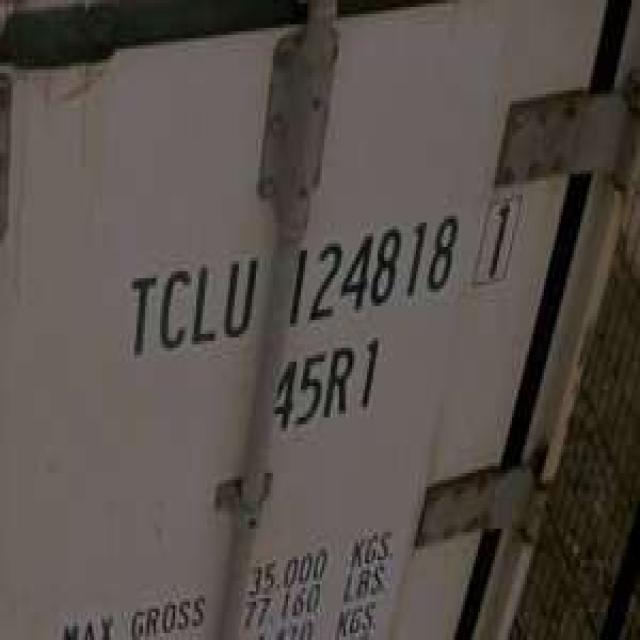dv: (472, 187, 525, 294)
owner: (124, 242, 262, 372)
serial: (280, 209, 462, 336)
size: (268, 338, 386, 449)
